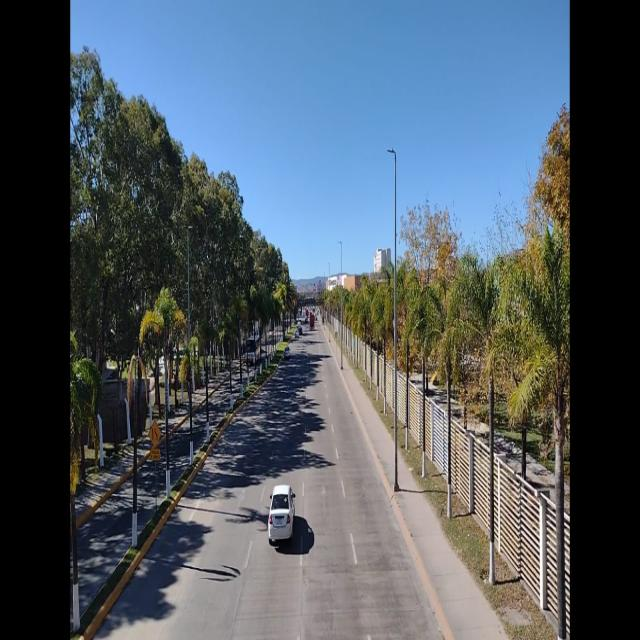Auto: (268, 484, 296, 546), (283, 343, 291, 358)
Autobus: (244, 336, 260, 369)
